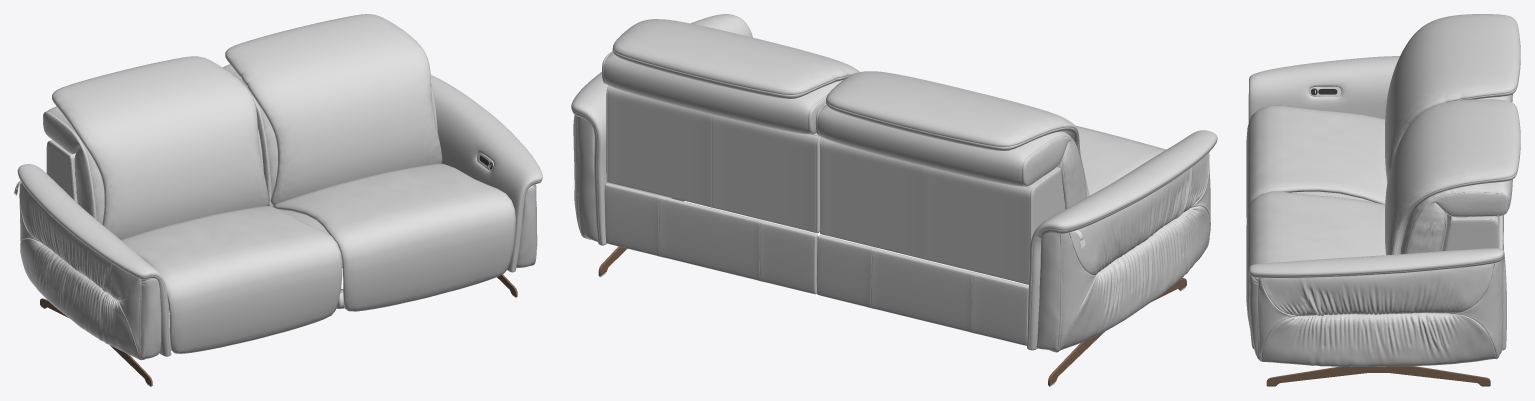
The model's file is SBH_HUDSON_2.5_Seater.glb.
3 views of the same model, side by side, from view 1: azimuth 30°, elevation 25°; view 2: azimuth 150°, elevation 25°; view 3: azimuth 270°, elevation 25° (orthographic). The views are drawn at different scales.
Visible parts, largest first — view 1: HUDSON_2.5_Seater; view 2: HUDSON_2.5_Seater; view 3: HUDSON_2.5_Seater.
Part boxes in pixels (x1,y1,x2,y2): HUDSON_2.5_Seater: (14, 14, 542, 386); HUDSON_2.5_Seater: (571, 14, 1217, 386); HUDSON_2.5_Seater: (1246, 14, 1520, 386).
Bounding box in the file's own units: 2.02 × 0.9142 × 1.1.
